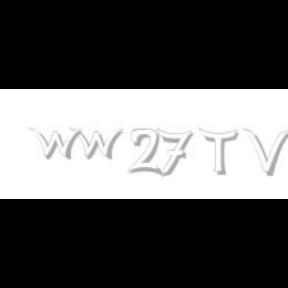2: (127, 128, 161, 176)
7: (156, 128, 194, 178)
T: (198, 128, 238, 176)
w: (29, 128, 88, 160), (70, 128, 128, 160)
